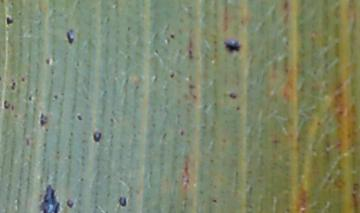tarspot: (38, 183, 61, 213), (221, 38, 241, 55), (187, 82, 198, 101), (65, 27, 76, 45), (38, 112, 49, 128), (91, 130, 103, 143), (117, 195, 128, 209), (4, 15, 14, 26), (186, 48, 195, 60), (64, 198, 73, 209), (2, 98, 10, 110), (227, 92, 237, 101), (281, 1, 291, 10), (10, 81, 17, 93), (18, 75, 27, 84), (74, 113, 83, 121), (167, 72, 176, 80), (178, 128, 185, 138), (52, 93, 60, 101), (169, 32, 176, 40), (210, 197, 218, 204), (44, 57, 50, 66), (235, 104, 241, 113), (25, 137, 30, 147), (27, 94, 32, 102), (1, 74, 3, 81)
